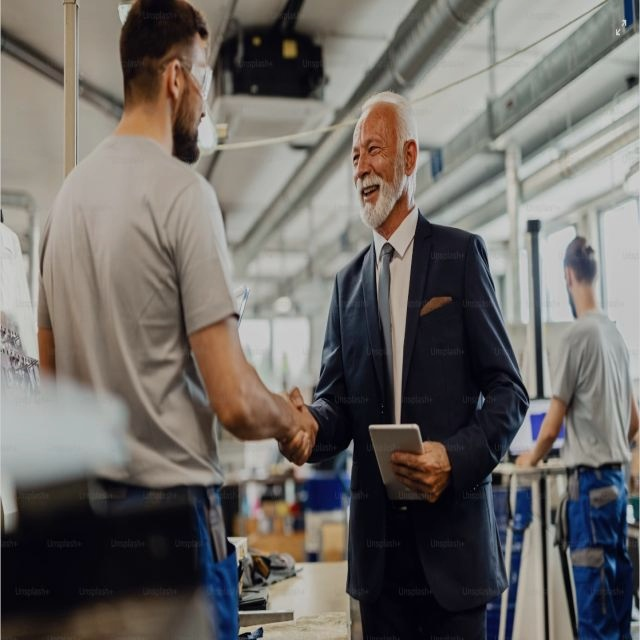Sin_Casco_Mascarrilla: (115, 0, 211, 158), (350, 88, 419, 227)
Sin_Chaleco: (333, 226, 489, 587)
